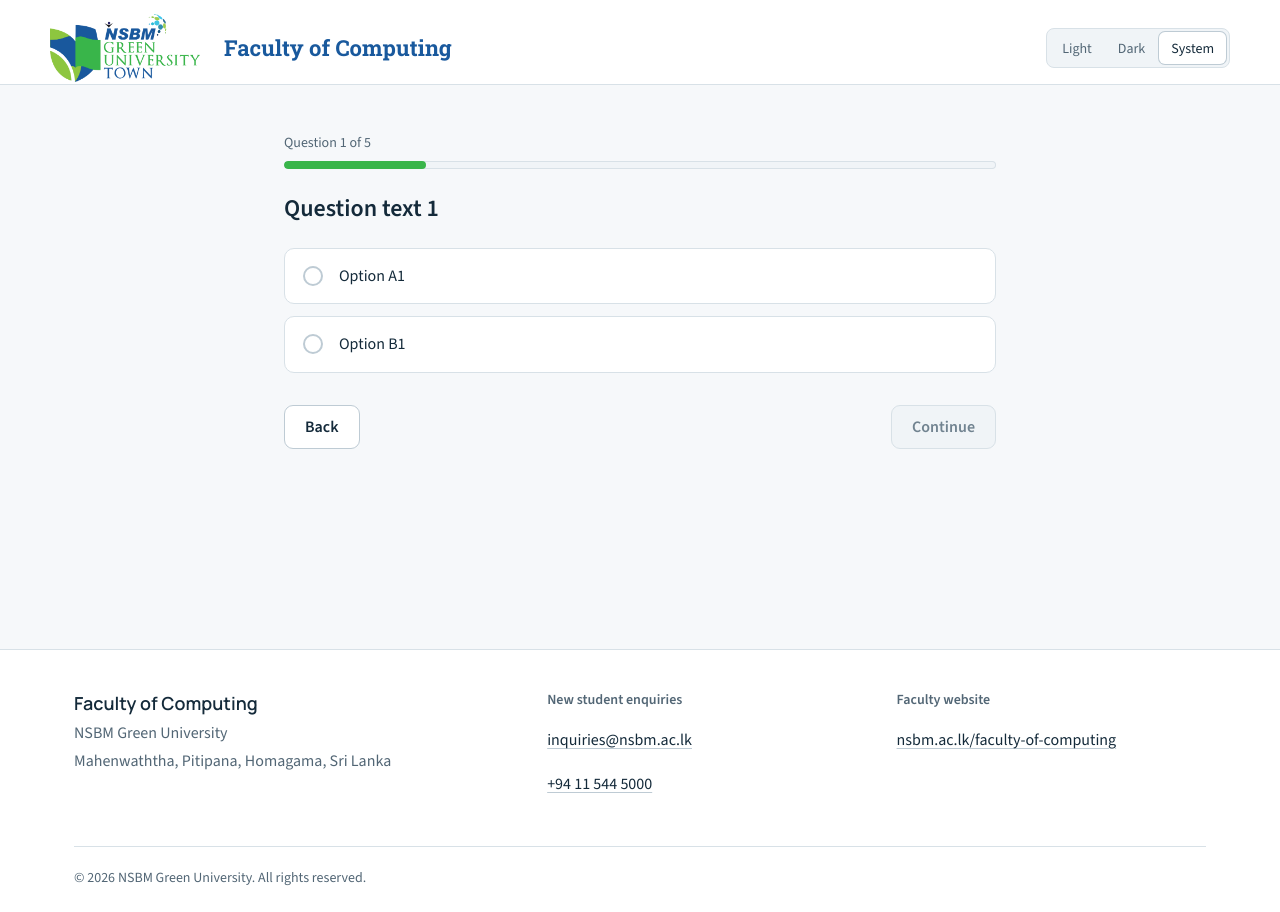
Scenario: questionnaire › keeps Continue disabled until an answer is chosen
This screenshot has width=1280, height=912.
Expected: the button "Continue" is disabled, [891,405,996,449]
Click the radio button labelled "Option A1". click: (372, 275)
box: [284,248,996,304]
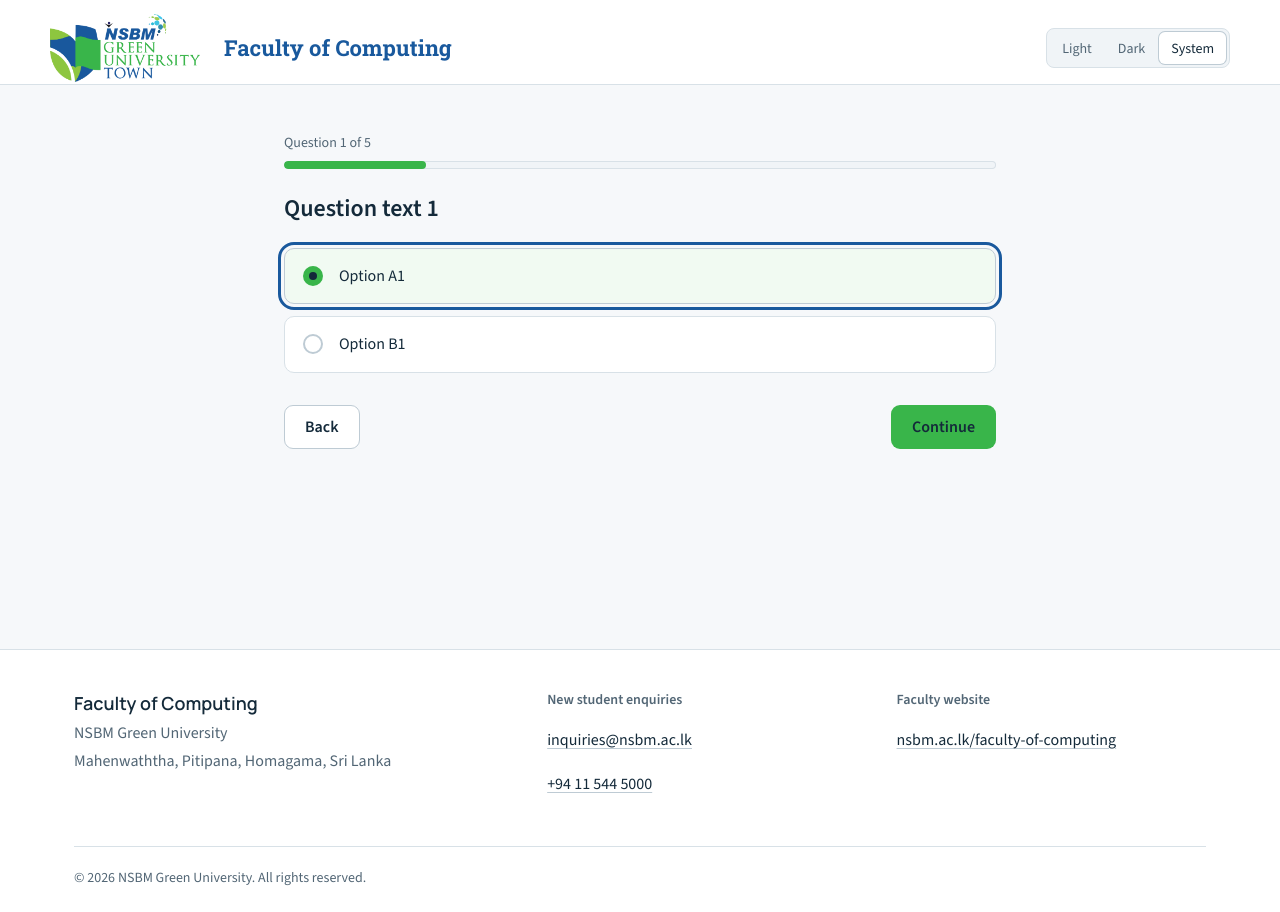
Now the button "Continue" is enabled, box [891,405,996,449]
